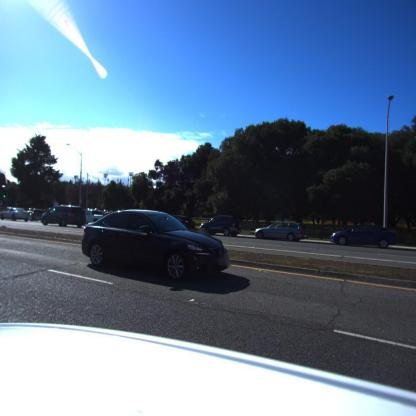car: (81, 210, 231, 282), (330, 225, 397, 249), (41, 206, 86, 229), (254, 223, 305, 242), (199, 215, 240, 238), (0, 207, 32, 222), (31, 210, 46, 221)
